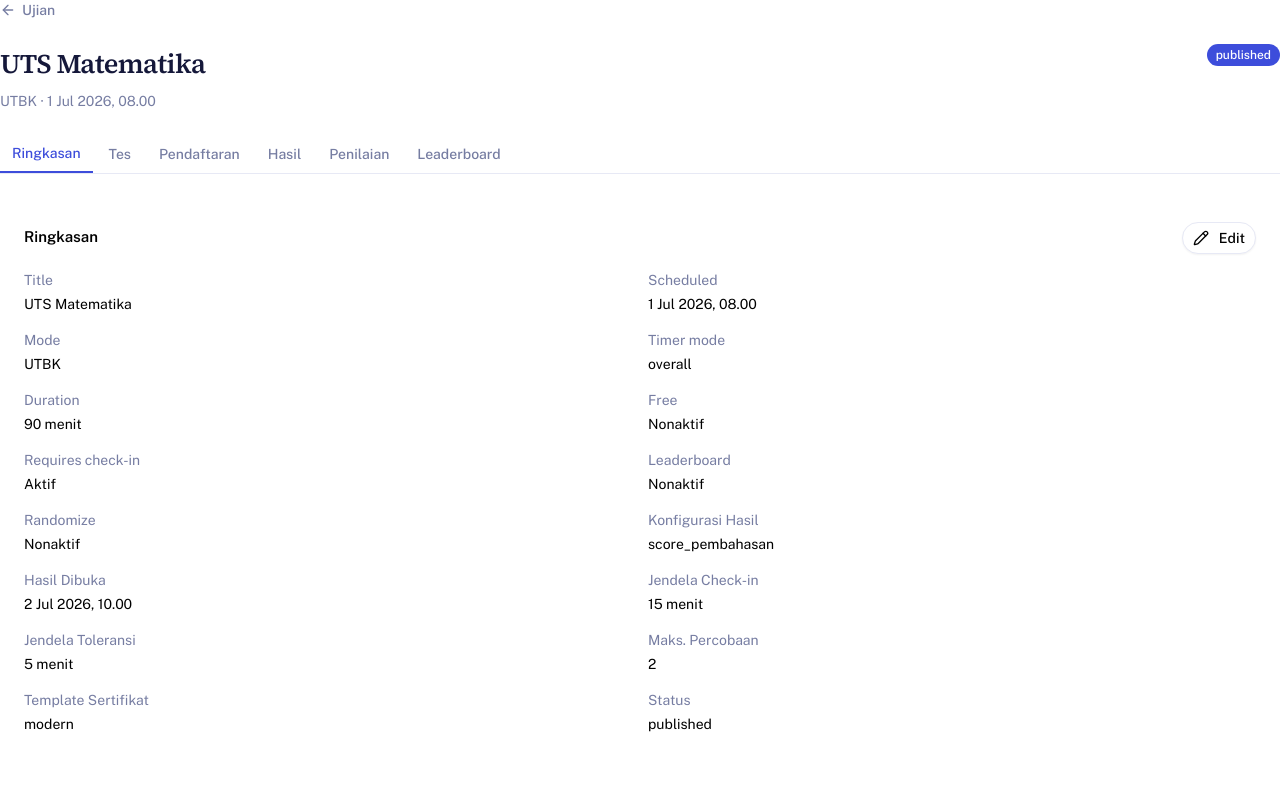
Test: ExamPackageDetailPage — overview tab › opens the edit modal when the overview edit button is clicked
What coordinates should you click on to do the following:
click the button "Edit"
I would click on:
 (1219, 238)
Its box is top-left (1182, 222), bottom-right (1256, 254).
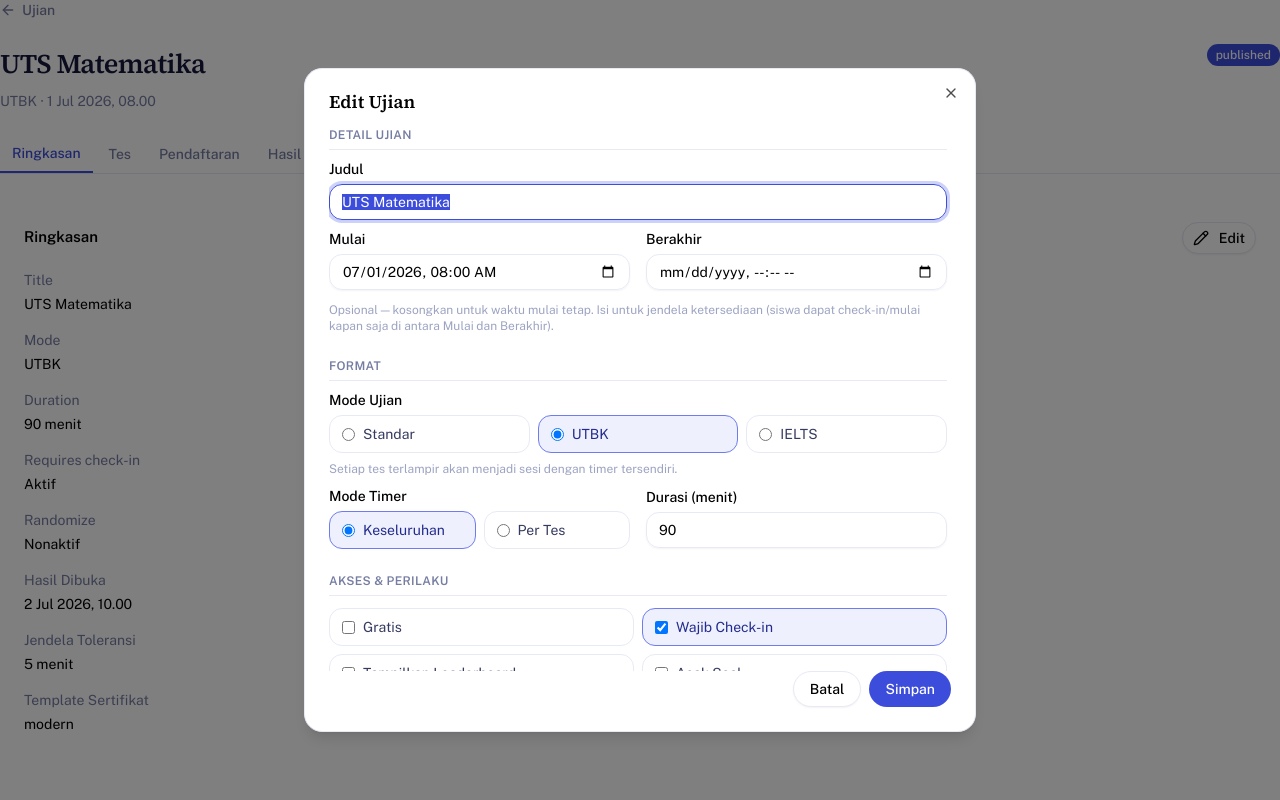
Now the heading "Edit Ujian" is shown, box top-left (329, 89), bottom-right (415, 114)
